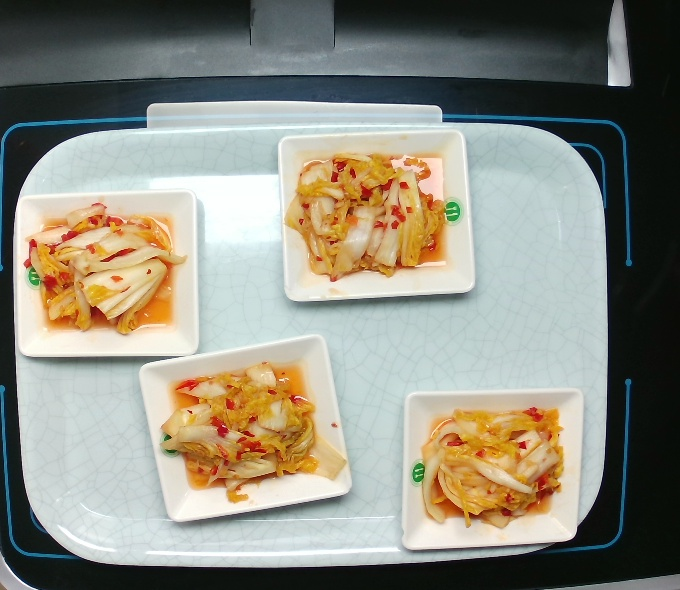wcq-SuanLaBaiCai: (154, 357, 349, 516), (24, 193, 189, 342), (410, 396, 573, 533), (284, 146, 447, 282)
